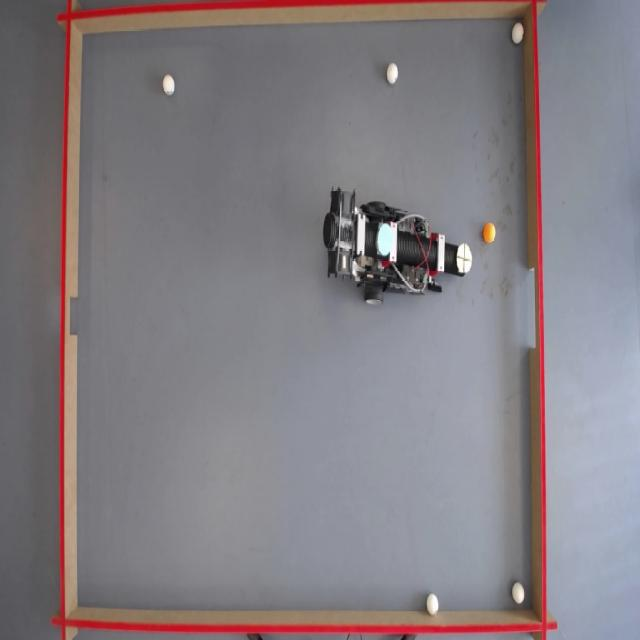orange: (484, 223, 498, 242)
robot: (320, 194, 470, 301)
robot-front: (457, 243, 474, 274)
robot-rear: (376, 224, 396, 258)
white: (513, 583, 527, 606), (512, 24, 526, 46), (426, 593, 440, 615), (386, 64, 399, 85), (164, 76, 176, 96)
